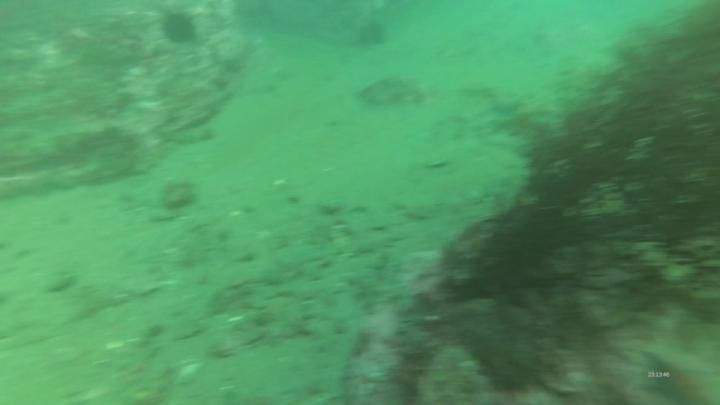echinus: (162, 11, 195, 46)
starfish: (631, 349, 694, 402)
waterweeds: (419, 1, 720, 363)
